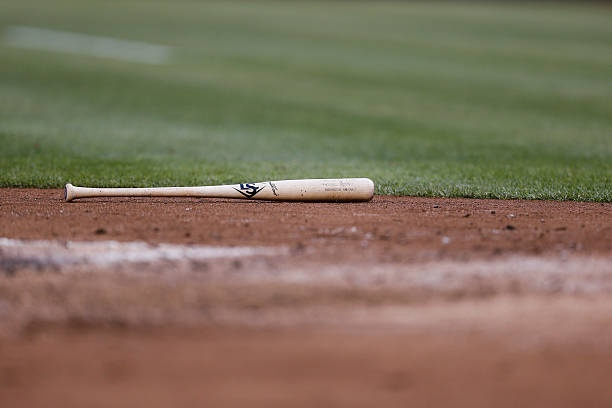bita: (61, 174, 379, 201)
